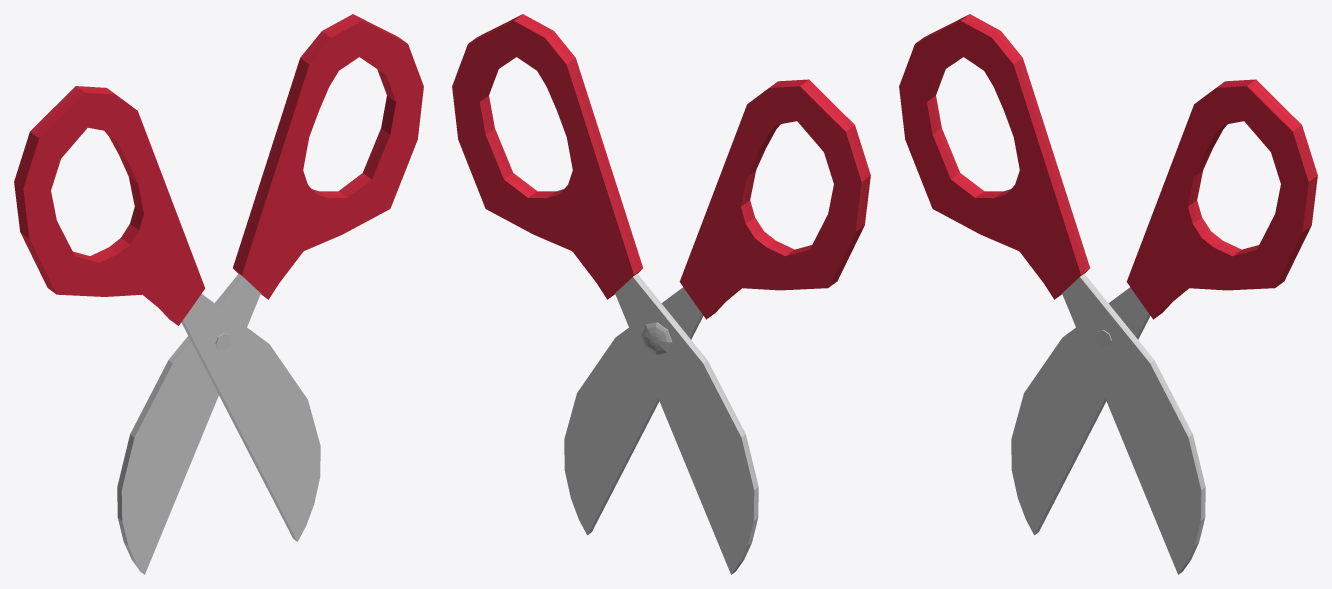
File: Scissors_1.FBX
3 views of the same model, side by side, from view 1: azimuth 30°, elevation 25°; view 2: azimuth 150°, elevation 25°; view 3: azimuth 330°, elevation 25° (orthographic).
Parts seen in each view (by area): view 1: Scissors_1; view 2: Scissors_1; view 3: Scissors_1.
Part boxes in pixels (left/top/right/bottom): Scissors_1: left=14, top=14, right=423, bottom=574; Scissors_1: left=452, top=14, right=870, bottom=574; Scissors_1: left=899, top=14, right=1317, bottom=574.
Bounding box in the file's own units: 0.8269 × 0.9819 × 0.0485.
